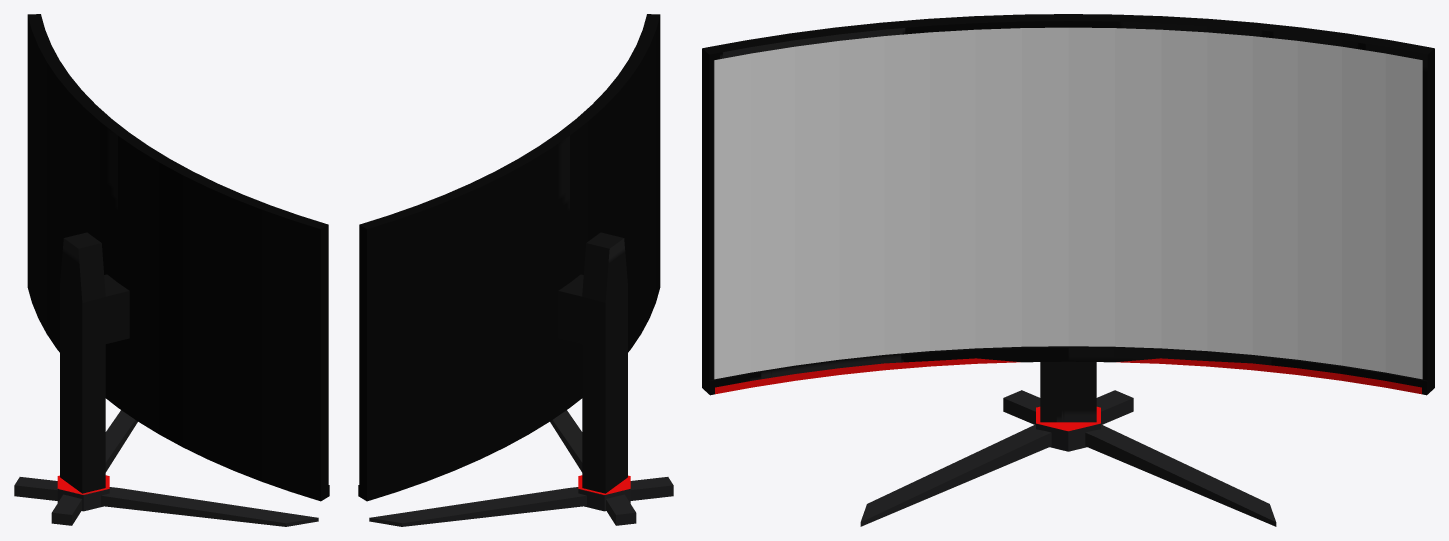
The model's file is monitorExp.fbx.
The picture shows the model from 3 angles, left to right: view 1: azimuth 30°, elevation 25°; view 2: azimuth 150°, elevation 25°; view 3: azimuth 270°, elevation 25°; orthographic projection. The views are drawn at different scales.
Visible parts, largest first — view 1: Frame, Leg, LegBottom; view 2: Frame, Leg, LegBottom; view 3: Screen, Frame, LegBottom, Leg.
Part boxes in pixels (<box>): Frame: <box>27,14,329,501</box>; Leg: <box>60,232,129,493</box>; LegBottom: <box>14,410,318,526</box>; Frame: <box>358,14,660,501</box>; Leg: <box>558,232,627,493</box>; LegBottom: <box>369,410,673,526</box>; Screen: <box>714,27,1422,379</box>; Frame: <box>702,14,1434,395</box>; LegBottom: <box>860,390,1276,526</box>; Leg: <box>1040,361,1096,422</box>.
Size of the model in its own units: 1.56 by 3.91 by 2.61.
